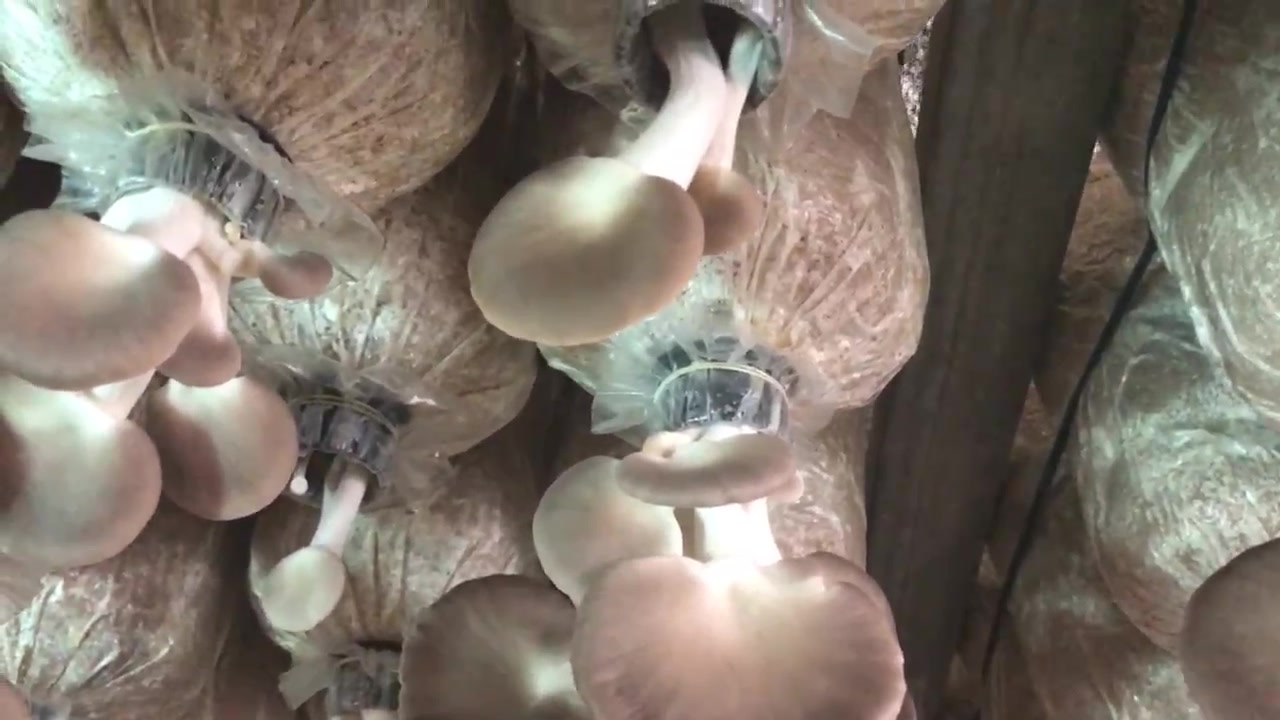nam: (395, 368, 902, 720), (1, 128, 332, 567), (467, 1, 792, 341), (260, 382, 408, 632), (1185, 541, 1280, 718)
